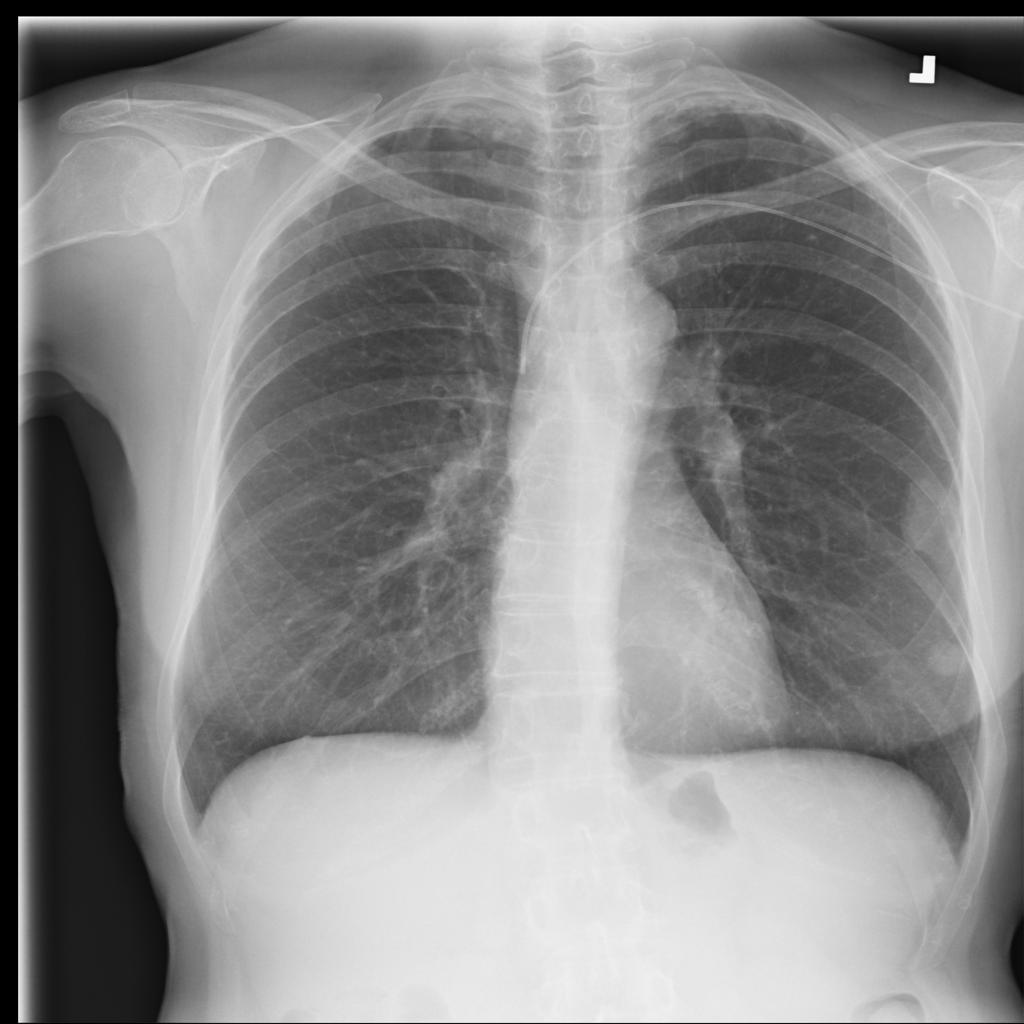nodule: (881, 452, 979, 576), (911, 626, 987, 692), (794, 334, 849, 380)
